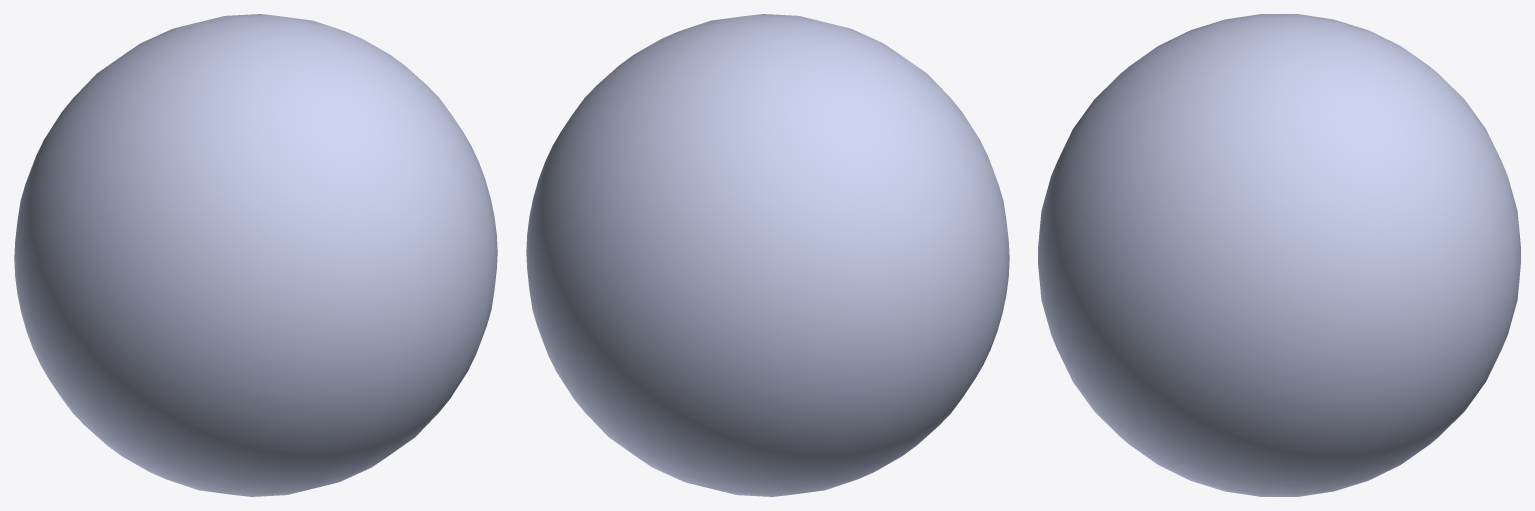
Rendered from Marble.FBX.
3 views of the same model, side by side, from view 1: azimuth 30°, elevation 25°; view 2: azimuth 150°, elevation 25°; view 3: azimuth 270°, elevation 25° (orthographic).
Parts seen in each view (by area): view 1: Revolve1; view 2: Revolve1; view 3: Revolve1.
Part boxes in pixels (x1,y1,x2,y2): Revolve1: [14, 14, 497, 496]; Revolve1: [526, 14, 1009, 496]; Revolve1: [1038, 14, 1520, 496].
Size of the model in its own units: 0.5906 by 0.5885 by 0.5865.
